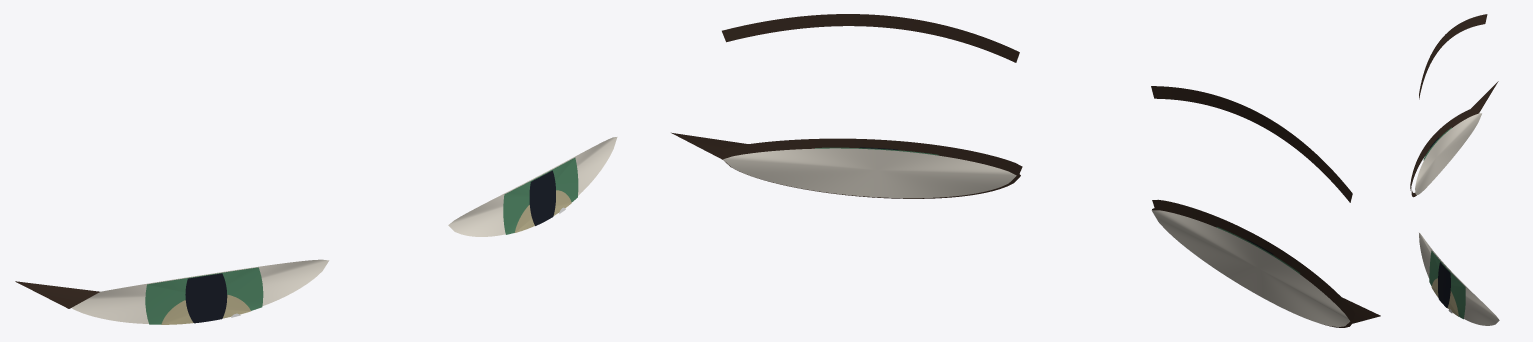
3 renders of one model, left to right at view 1: azimuth 30°, elevation 25°; view 2: azimuth 150°, elevation 25°; view 3: azimuth 270°, elevation 25°, orthographic. The views are drawn at different scales.
Parts seen in each view (by area): view 1: Eye_White_-1, Eye_White_1, Eye_Iris_-1, Eye_Pupil_-1, Eye_Iris_1, Eye_Pupil_1, Eye_LashWing_-1, Eye_Iris_Light_-1, Eye_Iris_Light_1; view 2: Eye_White_1, Eye_White_-1, Eyebrow_1, Eye_UpperLid_1, Eyebrow_-1, Eye_UpperLid_-1, Eye_LashWing_1; view 3: Eye_White_-1, Eye_White_1, Eye_Iris_1, Eyebrow_-1, Eye_UpperLid_-1, Eye_Pupil_1, Eye_Iris_Light_1, Eye_LashWing_-1.
Part boxes in pixels (left/top/right/bottom): Eye_White_-1: left=72, top=259, right=329, bottom=323; Eye_White_1: left=448, top=137, right=617, bottom=236; Eye_Iris_-1: left=145, top=267, right=263, bottom=324; Eye_Pupil_-1: left=185, top=273, right=227, bottom=323; Eye_Iris_1: left=503, top=157, right=578, bottom=234; Eye_Pupil_1: left=529, top=170, right=555, bottom=225; Eye_LashWing_-1: left=15, top=281, right=99, bottom=308; Eye_Iris_Light_-1: left=161, top=294, right=250, bottom=324; Eye_Iris_Light_1: left=514, top=190, right=571, bottom=232; Eye_White_1: left=723, top=148, right=1016, bottom=198; Eye_White_-1: left=1151, top=210, right=1350, bottom=326; Eyebrow_1: left=722, top=14, right=1019, bottom=62; Eye_UpperLid_1: left=722, top=138, right=1022, bottom=174; Eyebrow_-1: left=1151, top=86, right=1352, bottom=202; Eye_UpperLid_-1: left=1152, top=199, right=1355, bottom=319; Eye_LashWing_1: left=671, top=132, right=748, bottom=159; Eye_White_-1: left=1415, top=113, right=1481, bottom=194; Eye_White_1: left=1419, top=233, right=1499, bottom=325; Eye_Iris_1: left=1429, top=250, right=1465, bottom=319; Eyebrow_-1: left=1419, top=14, right=1487, bottom=99; Eye_UpperLid_-1: left=1410, top=107, right=1478, bottom=190; Eye_Pupil_1: left=1438, top=262, right=1450, bottom=308; Eye_Iris_Light_1: left=1431, top=278, right=1458, bottom=316; Eye_LashWing_-1: left=1471, top=81, right=1498, bottom=113.
Bounding box in the file's own units: 0.4435 × 0.1231 × 0.0809.
